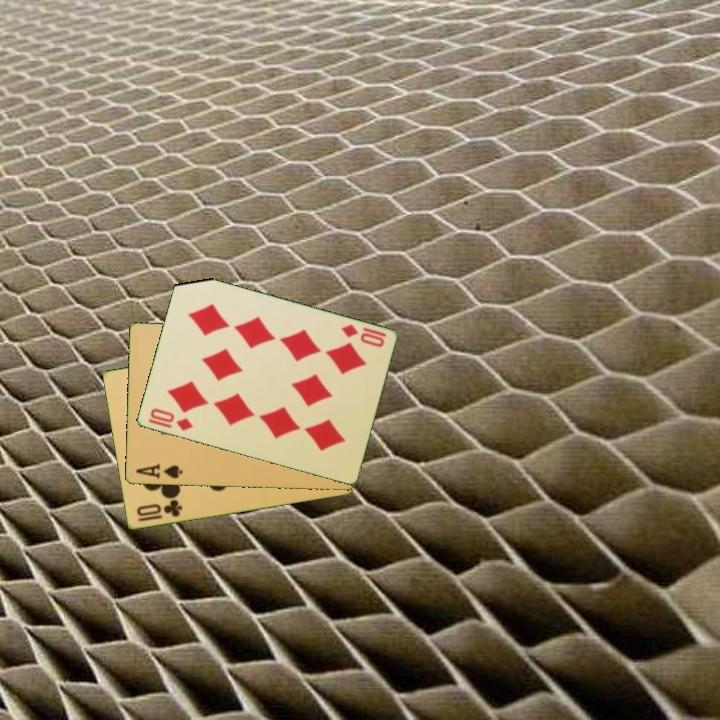10c: (133, 496, 185, 525)
10d: (337, 321, 389, 350), (144, 405, 195, 434)
As: (132, 461, 185, 482)
